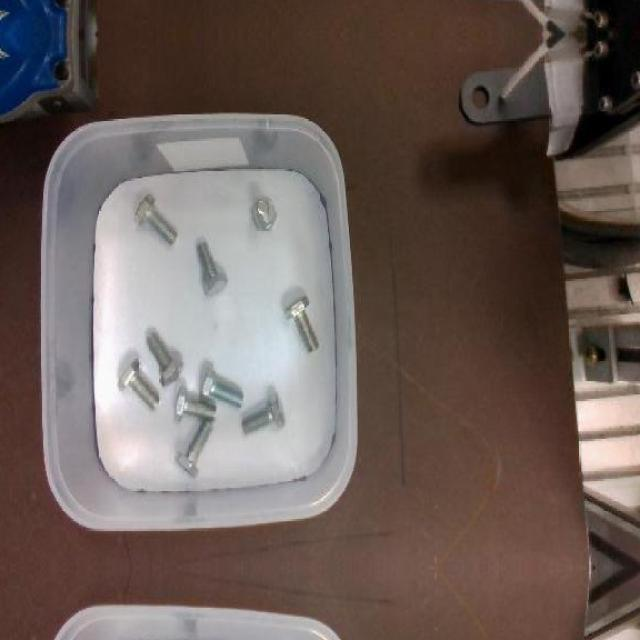screw: (134, 192, 178, 244), (118, 358, 161, 411), (174, 419, 213, 477), (146, 331, 184, 386), (284, 294, 319, 352), (242, 391, 286, 434), (197, 241, 229, 296), (200, 368, 244, 408), (174, 384, 217, 422), (252, 198, 278, 230)
